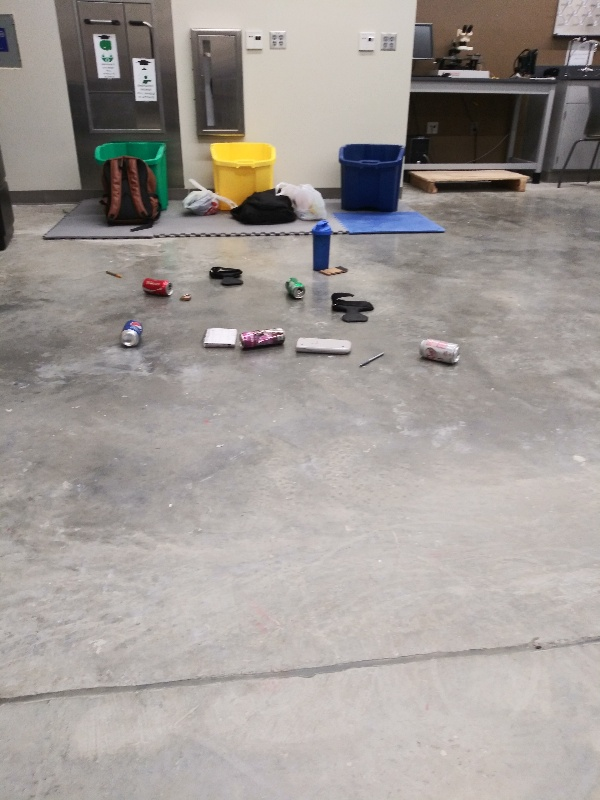can: (233, 326, 289, 353), (417, 335, 461, 366), (140, 273, 176, 301), (118, 318, 146, 349), (282, 274, 307, 302)
